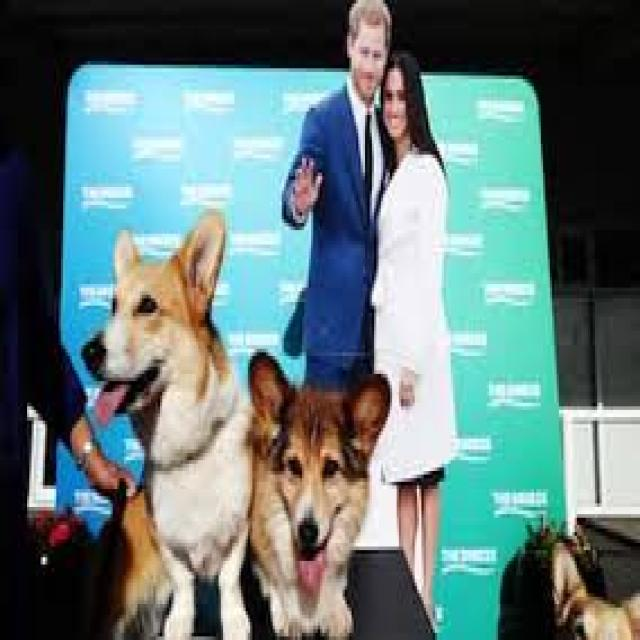CORGI: (81, 203, 247, 640), (234, 336, 393, 640)
